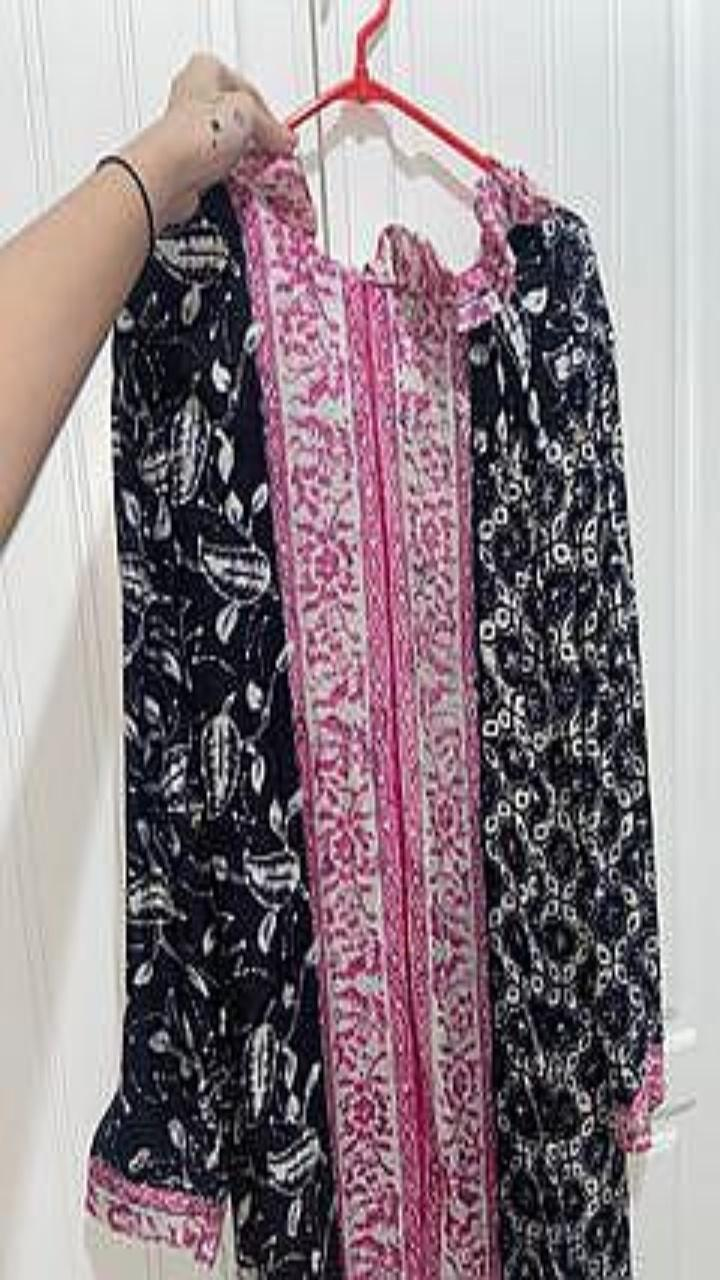Dresses: (88, 159, 661, 1279)
